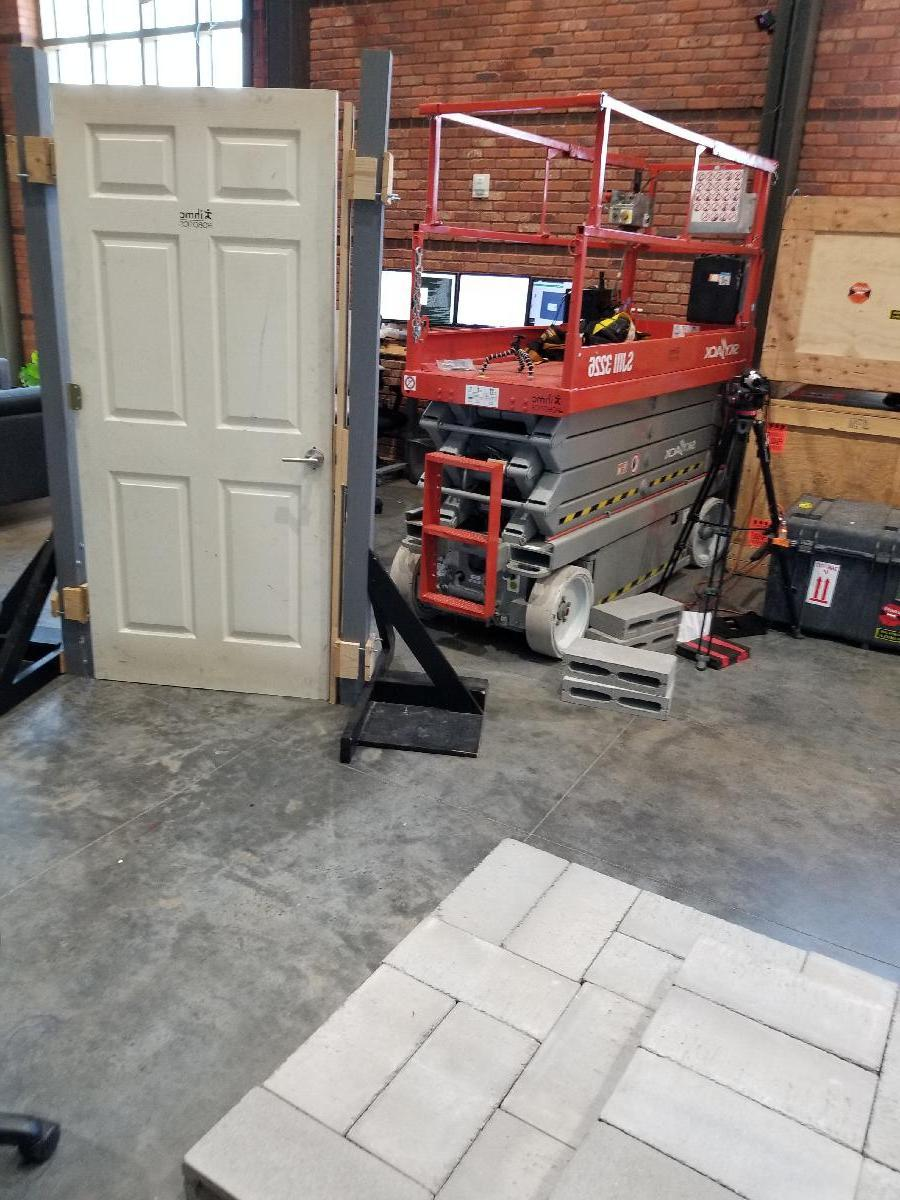door: (78, 85, 337, 696)
handle: (280, 446, 322, 472)
